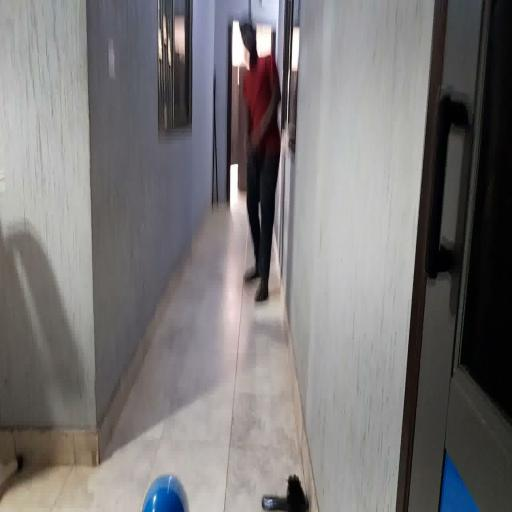plastic-ball: (137, 474, 192, 512)
